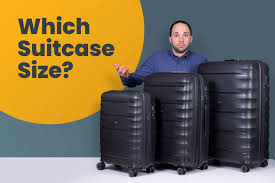suitcase: (195, 60, 270, 174), (141, 68, 209, 176), (97, 88, 156, 176)
